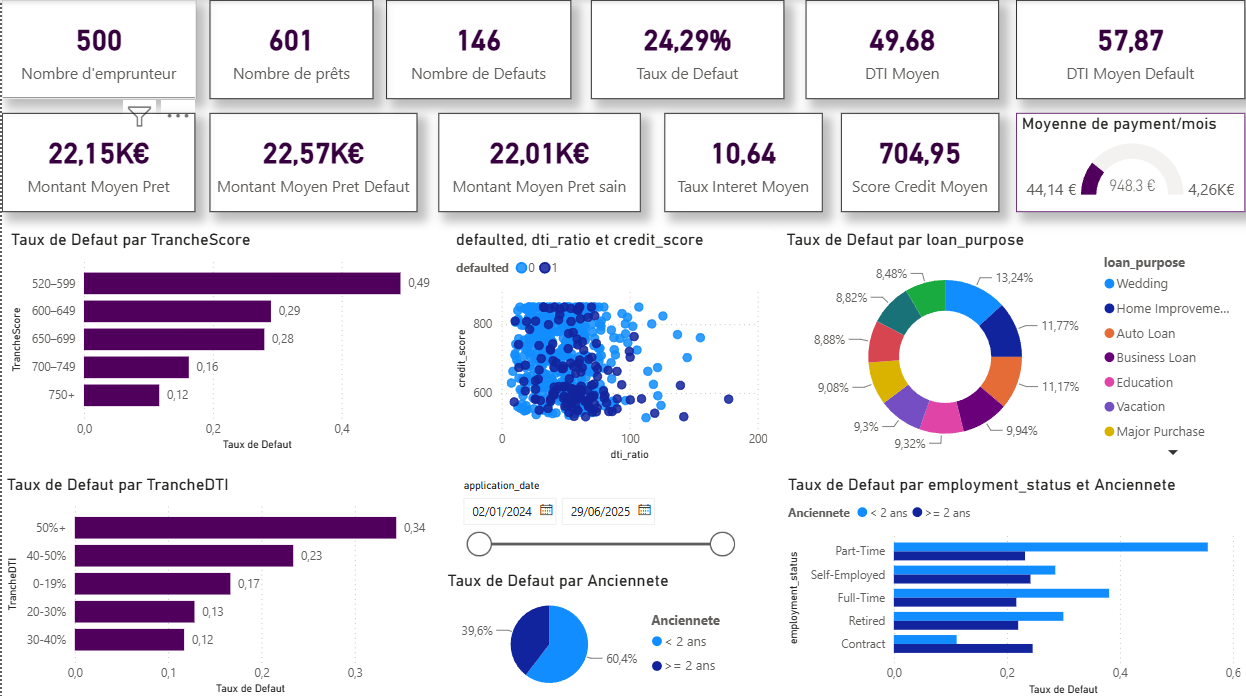

What the dashboard file says about the page in this screenshot:
{"tool":"powerbi","page":{"name":"Page 1","canvas":[1280,720],"ordinal":0},"visuals":[{"type":"card","fields":{"Values":["Count(borrower_profiles.borrower_id)"]},"box":[0,0,199.5,101.4],"z":0},{"type":"card","fields":{"Values":["Count(loan_applications.loan_id)"]},"box":[213.8,0,168.7,101.8],"z":1000},{"type":"card","fields":{"Values":["borrower_profiles.Montant Moyen Pret"]},"box":[0,116.3,199.2,101.8],"z":2000},{"type":"card","fields":{"Values":["borrower_profiles.Taux de Defaut"]},"box":[606.4,0,199.2,101.8],"z":3000},{"type":"card","fields":{"Values":["Sum(loan_applications.defaulted)"]},"box":[395.5,0,190.5,101.8],"z":4000},{"type":"card","fields":{"Values":["borrower_profiles.Montant Moyen Pret Defaut"]},"box":[213.8,116.3,213.8,101.8],"z":5000},{"type":"card","fields":{"Values":["borrower_profiles.Montant Moyen Pret sain"]},"box":[449.3,116.3,207.9,101.8],"z":6000},{"type":"card","fields":{"Values":["borrower_profiles.Score Credit Moyen"]},"box":[863.8,116.3,162.9,101.8],"z":7000},{"type":"card","fields":{"Values":["borrower_profiles.Taux Interet Moyen"]},"box":[682,116.3,162.9,101.8],"z":8000},{"type":"card","fields":{"Values":["borrower_profiles.DTI Moyen"]},"box":[827.4,0,199.2,101.8],"z":9000},{"type":"card","fields":{"Values":["borrower_profiles.DTI Moyen Default"]},"box":[1044.1,0,235.6,101.8],"z":10000},{"type":"clusteredBarChart","fields":{"Category":["borrower_profiles.TrancheScore"],"Y":["borrower_profiles.Taux de Defaut"]},"box":[4.4,237.3,449.9,231.5],"z":11000},{"type":"barChart","fields":{"Category":["loan_applications.TrancheDTI"],"Y":["borrower_profiles.Taux de Defaut"]},"box":[0,489.2,449.9,231.5],"z":12000},{"type":"scatterChart","fields":{"Y":["borrower_profiles.credit_score"],"Series":["loan_applications.defaulted"],"X":["loan_applications.dti_ratio"]},"box":[463,237.3,330.5,241.7],"z":13000},{"type":"donutChart","fields":{"Category":["loan_applications.loan_purpose"],"Y":["borrower_profiles.Taux de Defaut"]},"box":[802.2,237.3,477.5,241.7],"z":14000},{"type":"gauge","title":"Moyenne de payment/mois","fields":{"Y":["Avg(loan_applications.monthly_payment)"],"MinValue":["Min(loan_applications.monthly_payment)"],"MaxValue":["Max(loan_applications.monthly_payment)"]},"box":[1043.9,116.5,235.9,101.9],"z":15000},{"type":"pieChart","fields":{"Category":["borrower_profiles.Anciennete"],"Y":["borrower_profiles.Taux de Defaut"]},"box":[454.2,588.2,308.7,132.5],"z":16000},{"type":"clusteredBarChart","fields":{"Category":["borrower_profiles.employment_status"],"Y":["borrower_profiles.Taux de Defaut"],"Series":["borrower_profiles.Anciennete"]},"box":[803.7,489.2,476.1,231.5],"z":17000},{"type":"slicer","fields":{"Values":["loan_applications.application_date"]},"box":[463,489.2,299.9,88.8],"z":18000}]}

Visuals, with their boxes in screenshot pixels (x1, y1, x2, y2), scaled from the page's 1280x720 canvas onto the 1246x697 screenshot:
card - Count(borrower_profiles.borrower_id): [0, 0, 194, 98]
card - Count(loan_applications.loan_id): [208, 0, 372, 99]
card - borrower_profiles.Montant Moyen Pret: [0, 113, 194, 211]
card - borrower_profiles.Taux de Defaut: [590, 0, 784, 99]
card - Sum(loan_applications.defaulted): [385, 0, 570, 99]
card - borrower_profiles.Montant Moyen Pret Defaut: [208, 113, 416, 211]
card - borrower_profiles.Montant Moyen Pret sain: [437, 113, 640, 211]
card - borrower_profiles.Score Credit Moyen: [841, 113, 999, 211]
card - borrower_profiles.Taux Interet Moyen: [664, 113, 822, 211]
card - borrower_profiles.DTI Moyen: [805, 0, 999, 99]
card - borrower_profiles.DTI Moyen Default: [1016, 0, 1245, 99]
clusteredBarChart - borrower_profiles.TrancheScore x borrower_profiles.Taux de Defaut: [4, 230, 442, 454]
barChart - loan_applications.TrancheDTI x borrower_profiles.Taux de Defaut: [0, 474, 438, 696]
scatterChart - borrower_profiles.credit_score x loan_applications.defaulted: [451, 230, 772, 464]
donutChart - loan_applications.loan_purpose x borrower_profiles.Taux de Defaut: [781, 230, 1245, 464]
"Moyenne de payment/mois" gauge: [1016, 113, 1245, 211]
pieChart - borrower_profiles.Anciennete x borrower_profiles.Taux de Defaut: [442, 569, 743, 696]
clusteredBarChart - borrower_profiles.employment_status x borrower_profiles.Taux de Defaut: [782, 474, 1245, 696]
slicer - loan_applications.application_date: [451, 474, 743, 560]
